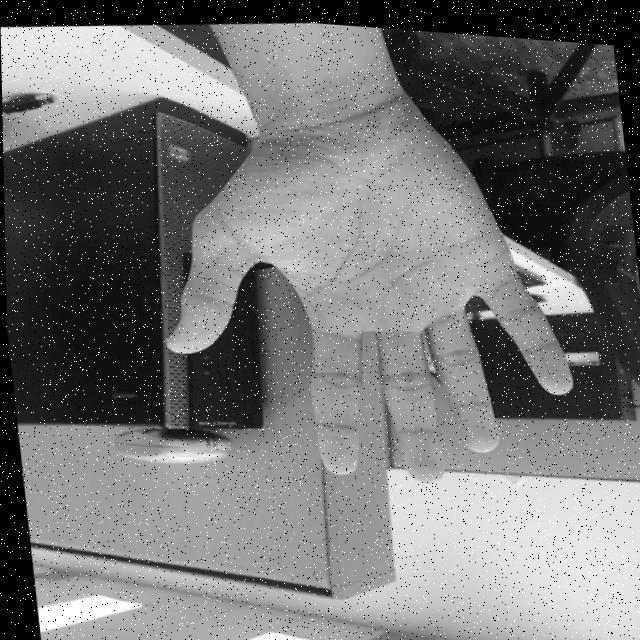no-gloves: (135, 71, 587, 508)
